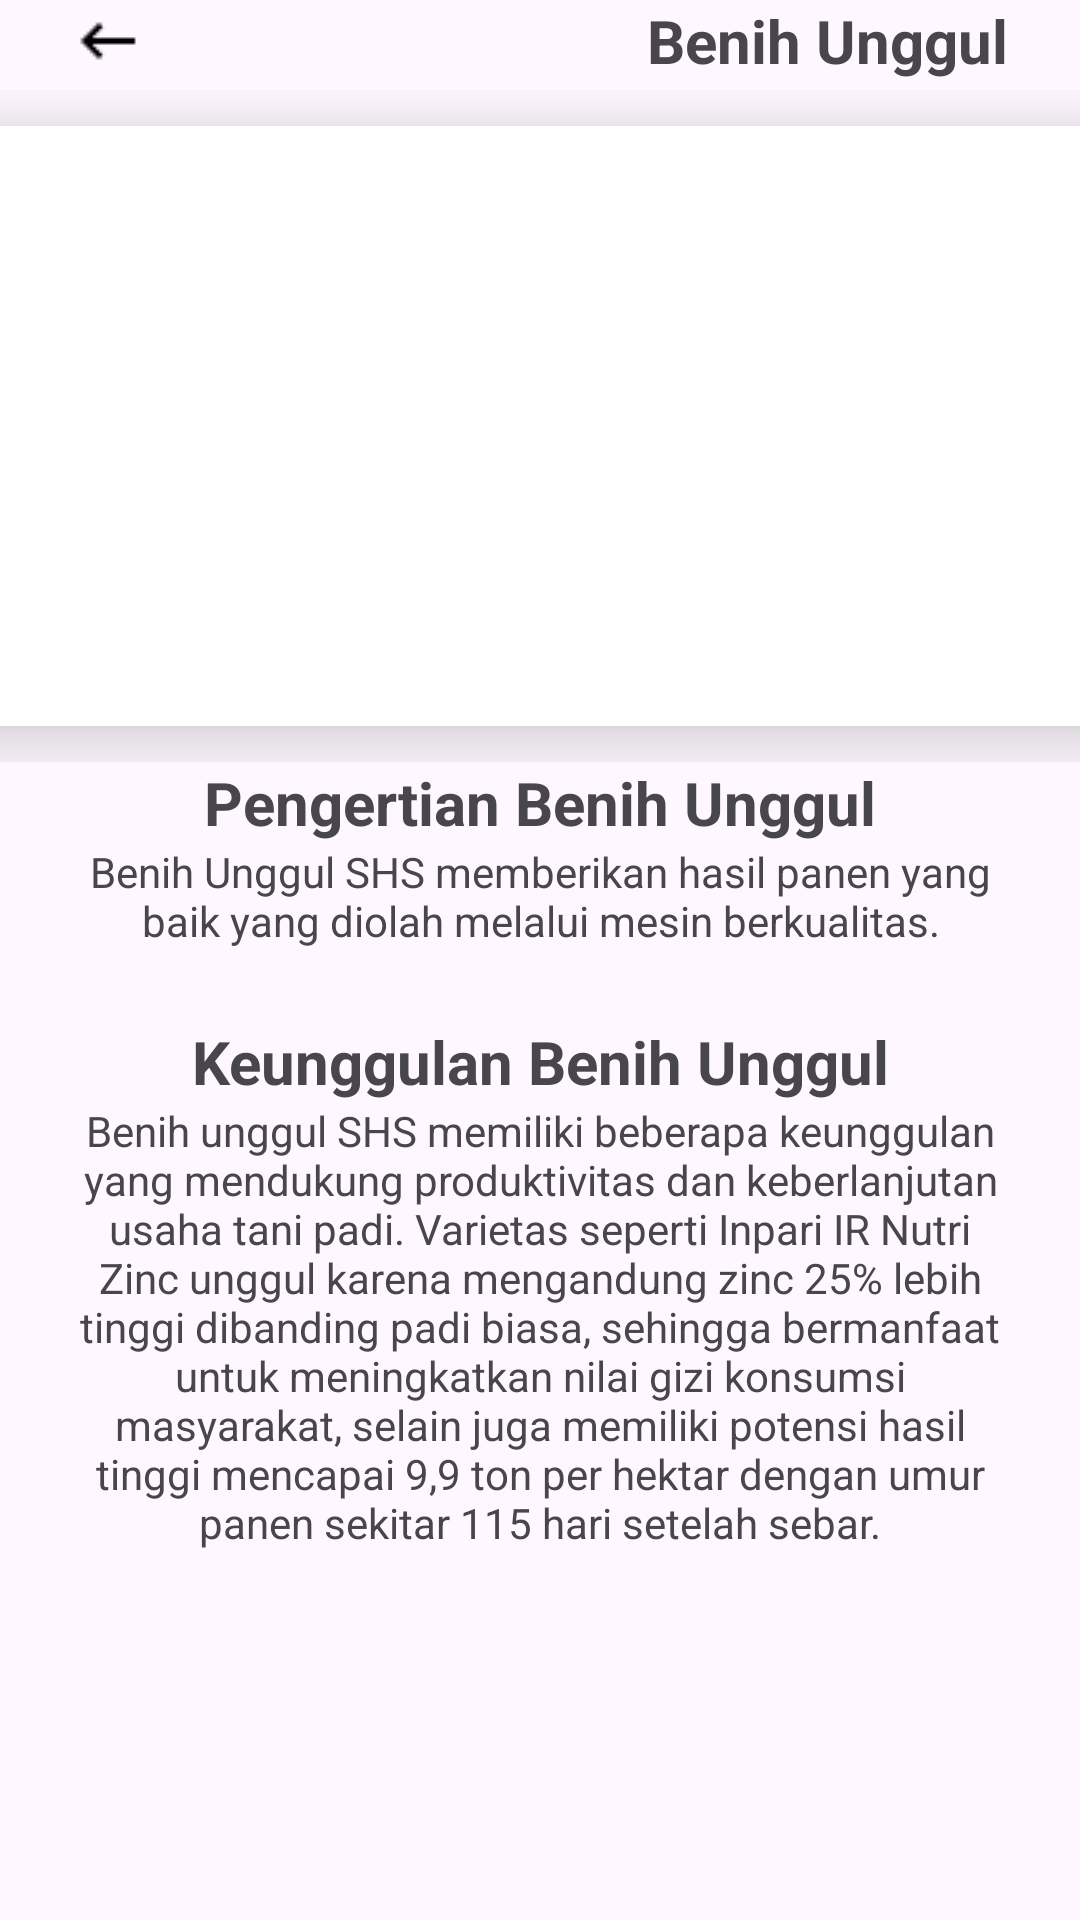

Icons on this 1080*1920 Android screen, each with its box as bbox=[x1, y1, x2, y2]:
keyboard backspace: bbox=[80, 22, 136, 60]
